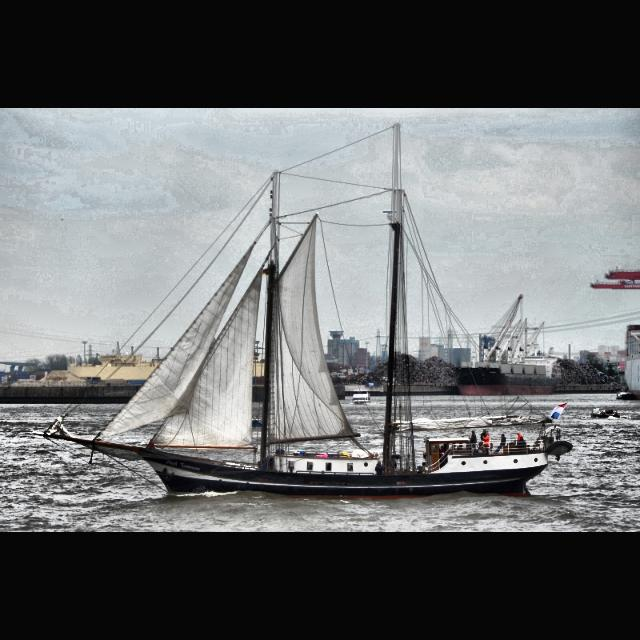sailing_vessel: (44, 122, 574, 498)
